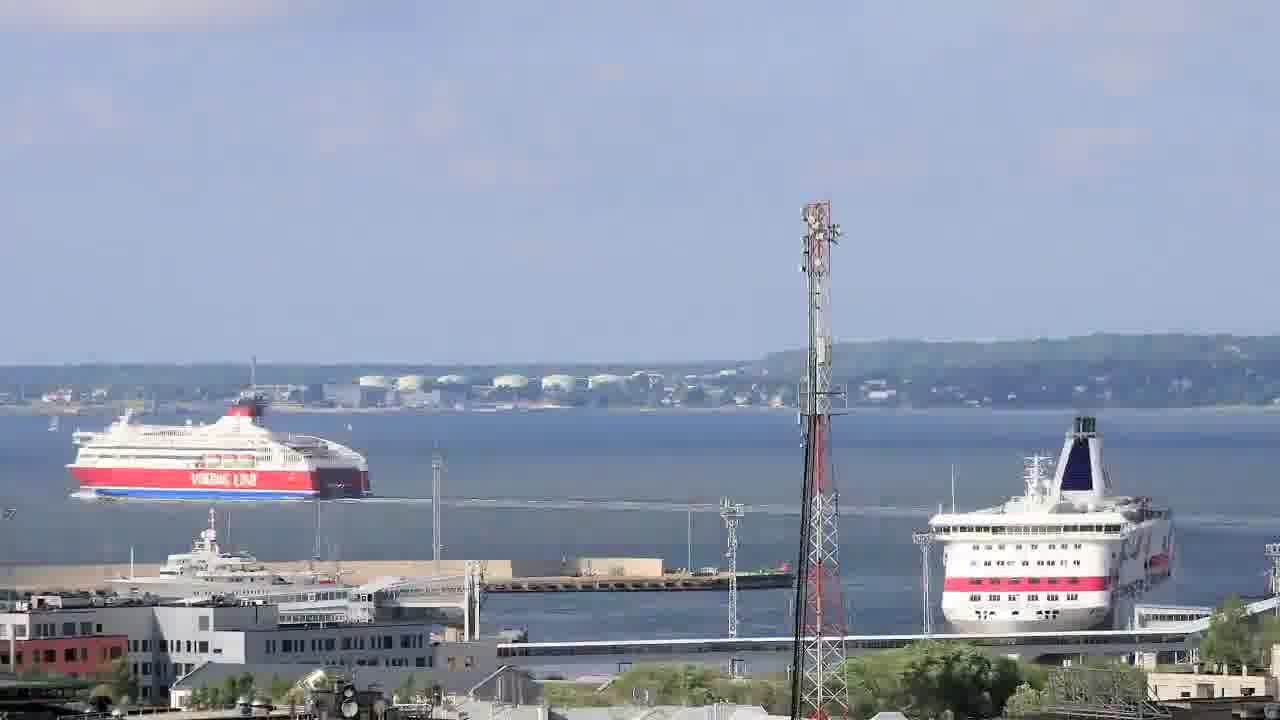type-3: (889, 419, 1189, 638), (60, 390, 385, 504), (89, 518, 402, 620)
